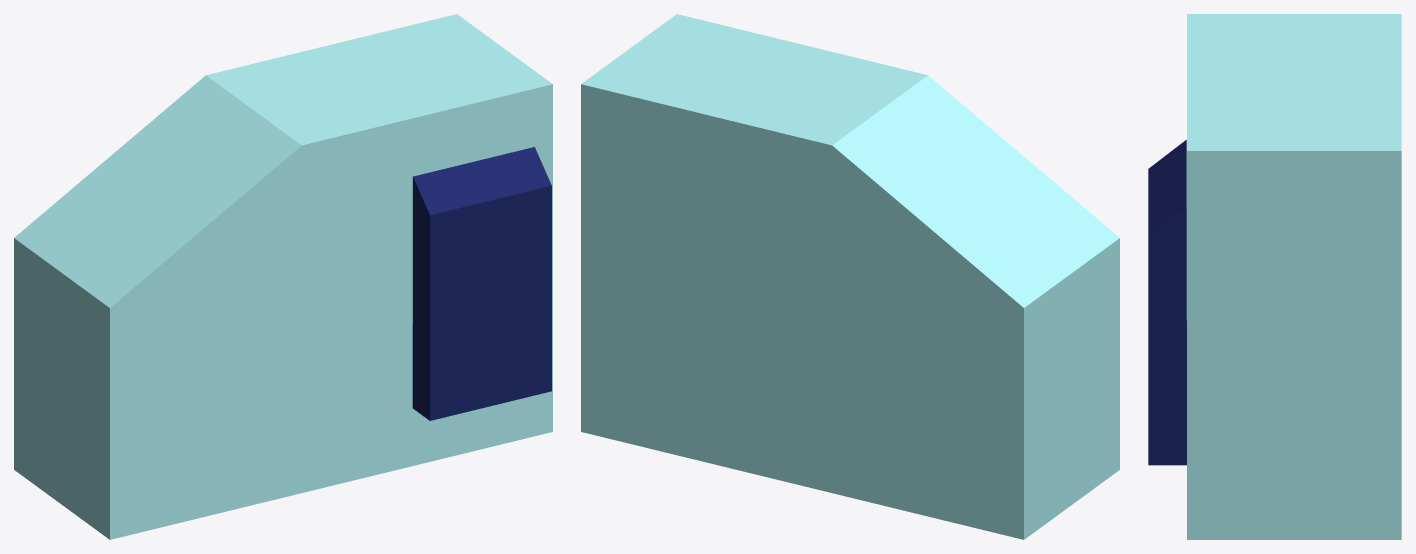
The picture shows the model from 3 angles, left to right: view 1: azimuth 30°, elevation 25°; view 2: azimuth 150°, elevation 25°; view 3: azimuth 270°, elevation 25°; orthographic projection. The views are drawn at different scales.
Parts seen in each view (by area): view 1: Mesh_0.008; view 2: Mesh_0.008; view 3: Mesh_0.008.
Part boxes in pixels (x1,y1,x2,y2): Mesh_0.008: (14,14,552,539); Mesh_0.008: (581,14,1119,539); Mesh_0.008: (1148,14,1401,539).
Size of the model in its own units: 4 by 3 by 1.77.
